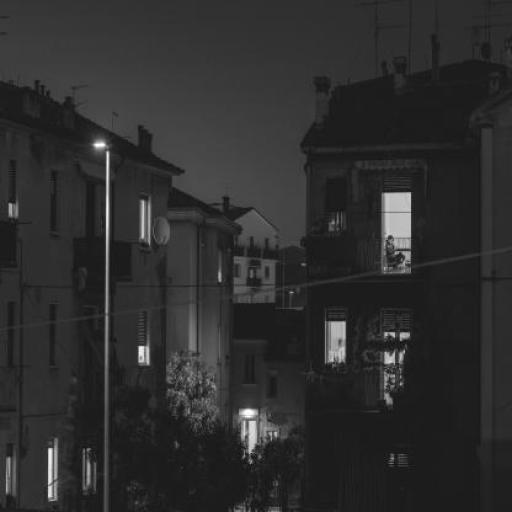street light: (91, 140, 111, 512), (288, 289, 294, 310)
